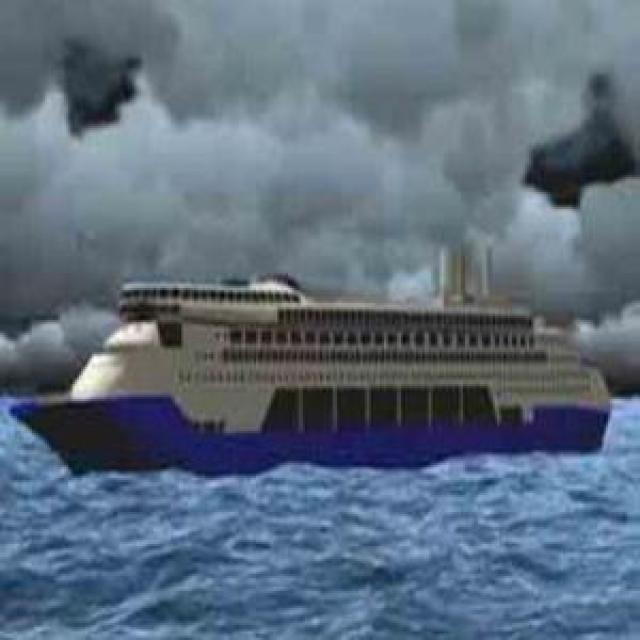passenger ship: (19, 278, 639, 472)
